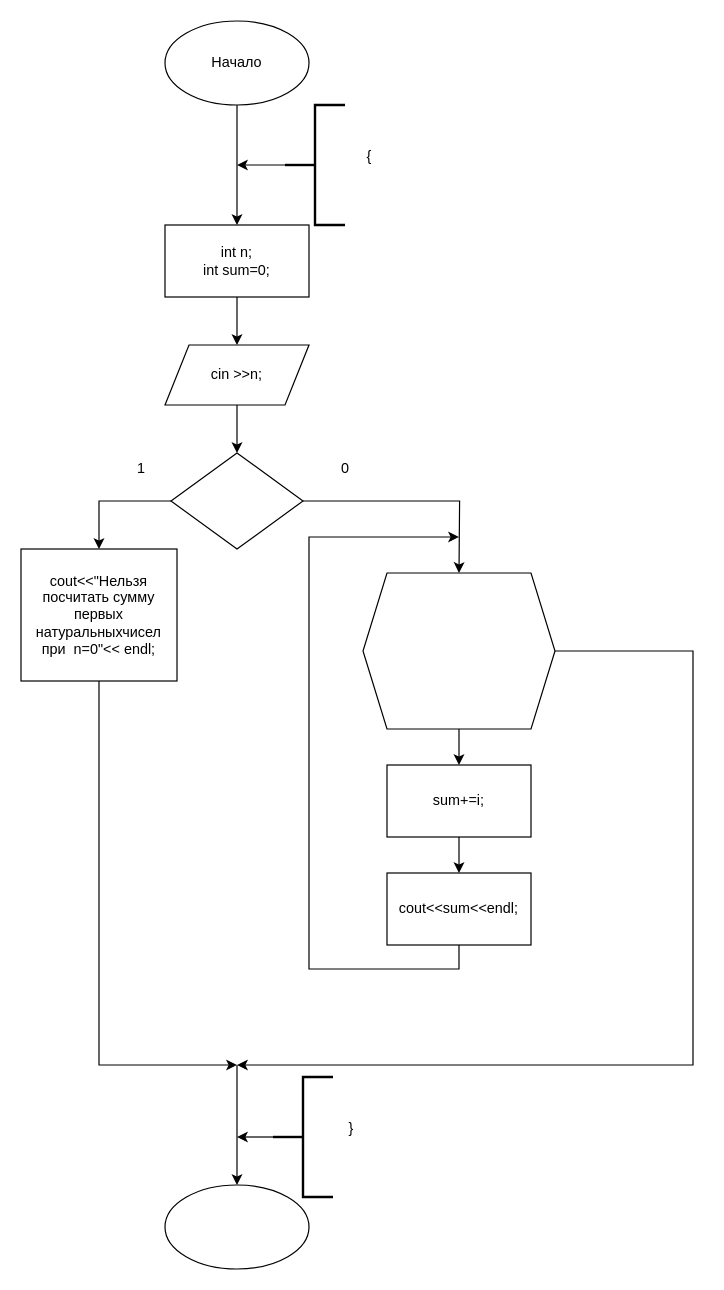
Image size: 724x1290. Some labels were removed from this diagram. The centre of each missing label's shape, as x and y in pixels:
"for (int i=1; i<=n; i++)" belongs at (x=458, y=650).
"if (n<=0)" belongs at (x=236, y=500).
"Конец" belongs at (x=236, y=1226).
